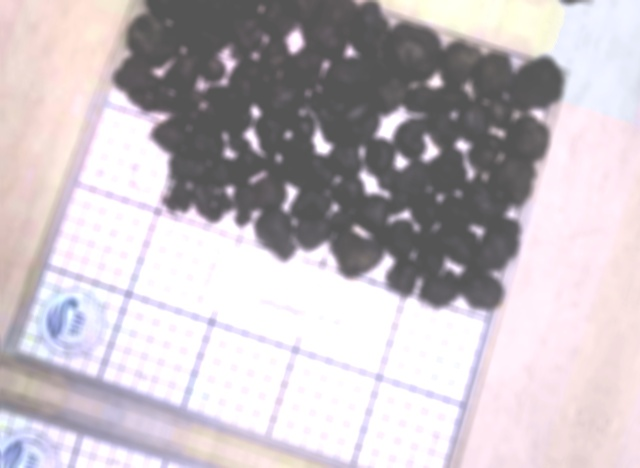halobolite: (497, 47, 569, 121), (228, 16, 281, 74), (269, 122, 344, 162), (324, 31, 367, 95), (416, 186, 488, 223), (473, 100, 526, 145), (292, 15, 331, 73), (373, 32, 411, 89), (375, 213, 421, 257), (186, 1, 230, 46), (117, 69, 164, 111), (291, 83, 340, 123), (473, 220, 510, 270), (346, 118, 390, 159), (388, 158, 439, 193), (477, 66, 525, 103), (170, 152, 201, 209), (256, 81, 296, 124), (436, 52, 475, 96), (135, 17, 173, 62), (429, 88, 476, 124), (398, 73, 441, 111), (311, 9, 354, 47), (489, 139, 527, 180), (436, 155, 484, 187), (337, 87, 376, 126), (383, 247, 415, 292), (260, 185, 302, 219), (225, 114, 258, 157), (353, 153, 385, 196), (432, 226, 467, 264), (397, 138, 442, 167), (204, 77, 239, 114), (406, 34, 440, 72), (444, 123, 478, 161), (390, 113, 420, 156), (294, 179, 331, 213), (154, 110, 188, 147), (335, 211, 370, 246), (189, 131, 220, 170), (459, 270, 502, 298), (274, 161, 315, 190), (291, 210, 329, 241), (199, 180, 231, 216), (238, 195, 268, 233), (358, 29, 387, 68), (474, 155, 505, 191), (421, 271, 454, 303), (251, 145, 283, 178), (360, 196, 393, 226), (324, 185, 359, 213), (373, 89, 401, 123), (323, 166, 357, 193), (231, 86, 260, 117), (262, 217, 293, 244), (460, 37, 483, 69), (363, 224, 388, 250), (328, 146, 353, 171), (380, 180, 406, 204), (241, 167, 264, 193), (425, 121, 449, 145), (355, 247, 380, 267)
